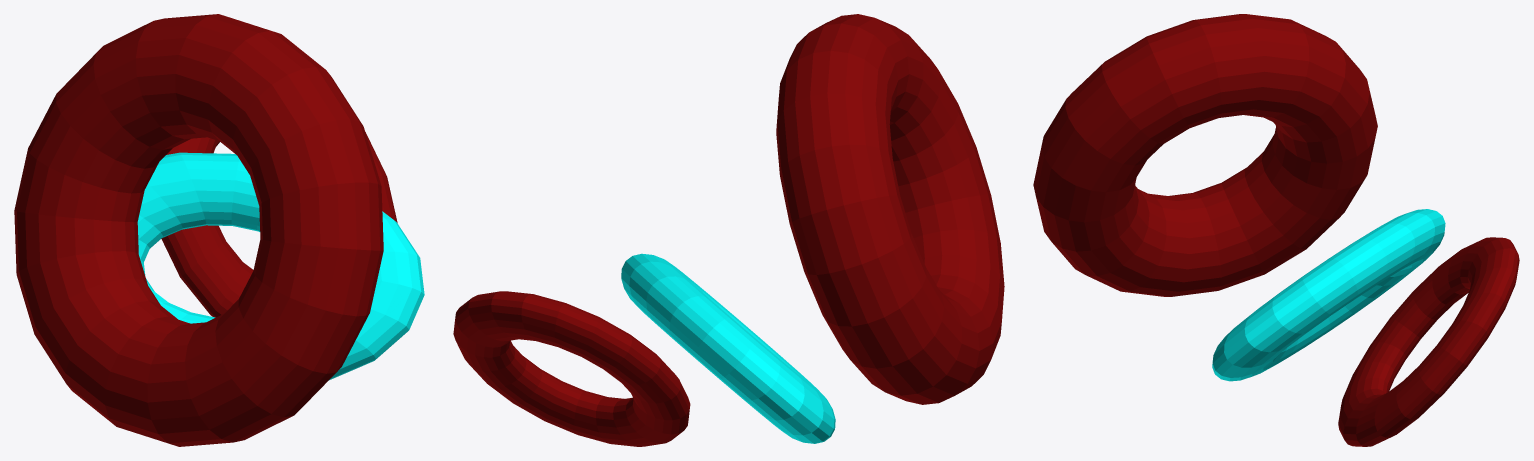
Rendered from _ref_phong_transparent_aone_alpha0.dae.
The picture shows the model from 3 angles, left to right: view 1: azimuth 30°, elevation 25°; view 2: azimuth 150°, elevation 25°; view 3: azimuth 270°, elevation 25°; orthographic projection. The views are drawn at different scales.
Visible parts, largest first — view 1: pTorus3, pTorus1, pTorus2; view 2: pTorus3, pTorus2, pTorus1; view 3: pTorus3, pTorus2, pTorus1.
Part boxes in pixels (x1=…): pTorus3: x1=14, y1=14, x2=383, y2=446; pTorus1: x1=137, y1=152, x2=424, y2=380; pTorus2: x1=161, y1=132, x2=397, y2=317; pTorus3: x1=776, y1=14, x2=1004, y2=404; pTorus2: x1=453, y1=291, x2=690, y2=446; pTorus1: x1=621, y1=253, x2=835, y2=443; pTorus3: x1=1033, y1=14, x2=1377, y2=296; pTorus2: x1=1338, y1=237, x2=1519, y2=446; pTorus1: x1=1212, y1=209, x2=1445, y2=381.
Size of the model in its own units: 308 by 283 by 357.
